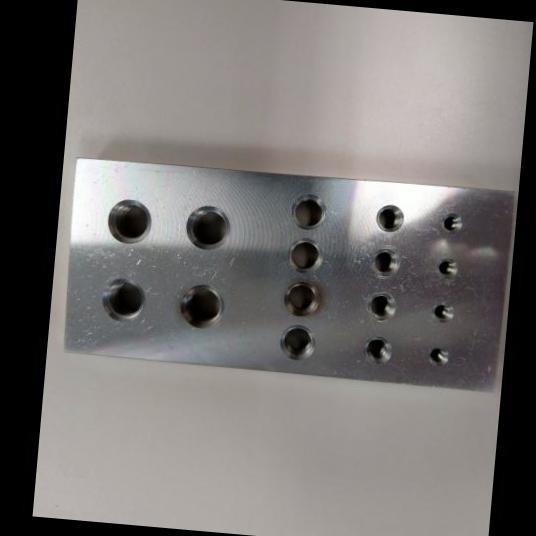hole: (178, 282, 228, 332), (106, 198, 154, 248), (183, 204, 233, 252), (100, 278, 148, 324), (284, 236, 326, 277), (288, 193, 330, 233), (283, 280, 322, 319), (279, 324, 318, 362), (364, 290, 398, 324), (374, 203, 406, 235), (370, 248, 402, 279), (362, 336, 393, 367), (430, 302, 456, 325), (436, 256, 459, 280), (440, 213, 464, 236), (427, 345, 450, 368)
